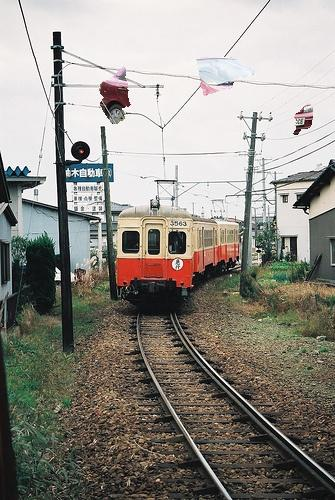tampered: (100, 58, 313, 135)
